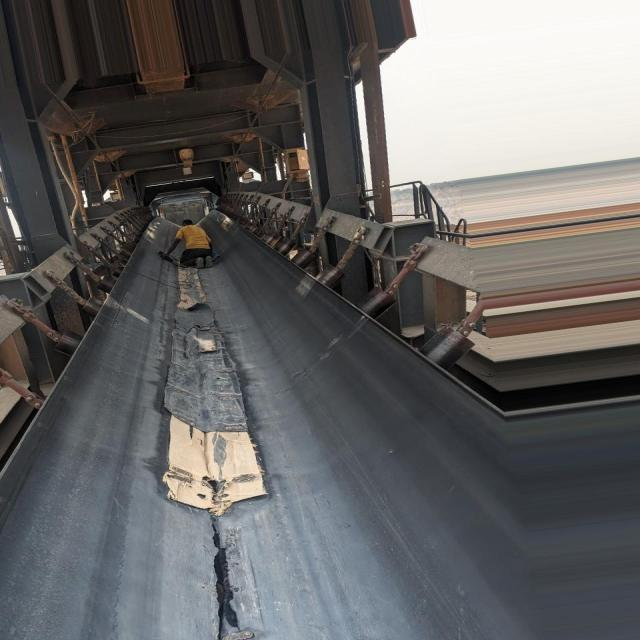Human: (160, 219, 221, 269)
Roller: (274, 236, 476, 370), (55, 242, 136, 358)
Tear: (212, 533, 238, 630)
patch work: (163, 302, 269, 513)
